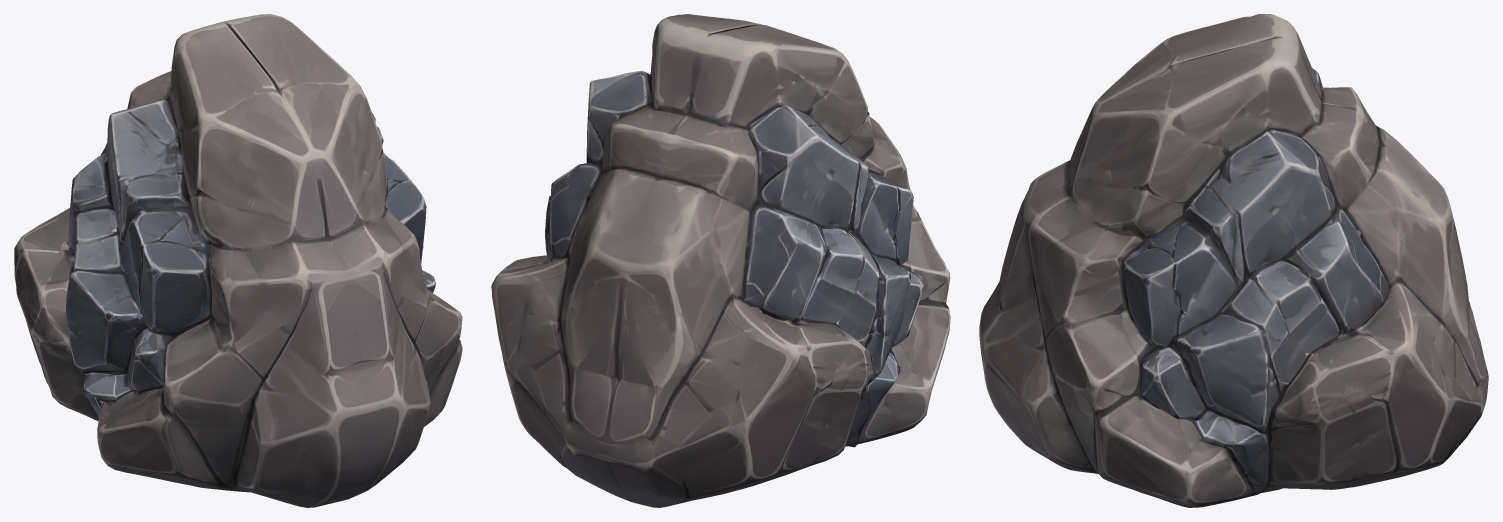
File: Minerais 3 .glb
3 renders of one model, left to right at view 1: azimuth 30°, elevation 25°; view 2: azimuth 150°, elevation 25°; view 3: azimuth 270°, elevation 25°, orthographic. The views are drawn at different scales.
Visible parts, largest first — view 1: tripo_node_29427c66-6fc5-4e48-9f57-47add28d2a9a; view 2: tripo_node_29427c66-6fc5-4e48-9f57-47add28d2a9a; view 3: tripo_node_29427c66-6fc5-4e48-9f57-47add28d2a9a.
Part boxes in pixels (left/top/right/bottom): tripo_node_29427c66-6fc5-4e48-9f57-47add28d2a9a: left=14, top=14, right=462, bottom=507; tripo_node_29427c66-6fc5-4e48-9f57-47add28d2a9a: left=491, top=14, right=950, bottom=507; tripo_node_29427c66-6fc5-4e48-9f57-47add28d2a9a: left=979, top=14, right=1488, bottom=507.
Size of the model in its own units: 0.8193 by 0.9751 by 1.
1 material, 1 textured.
